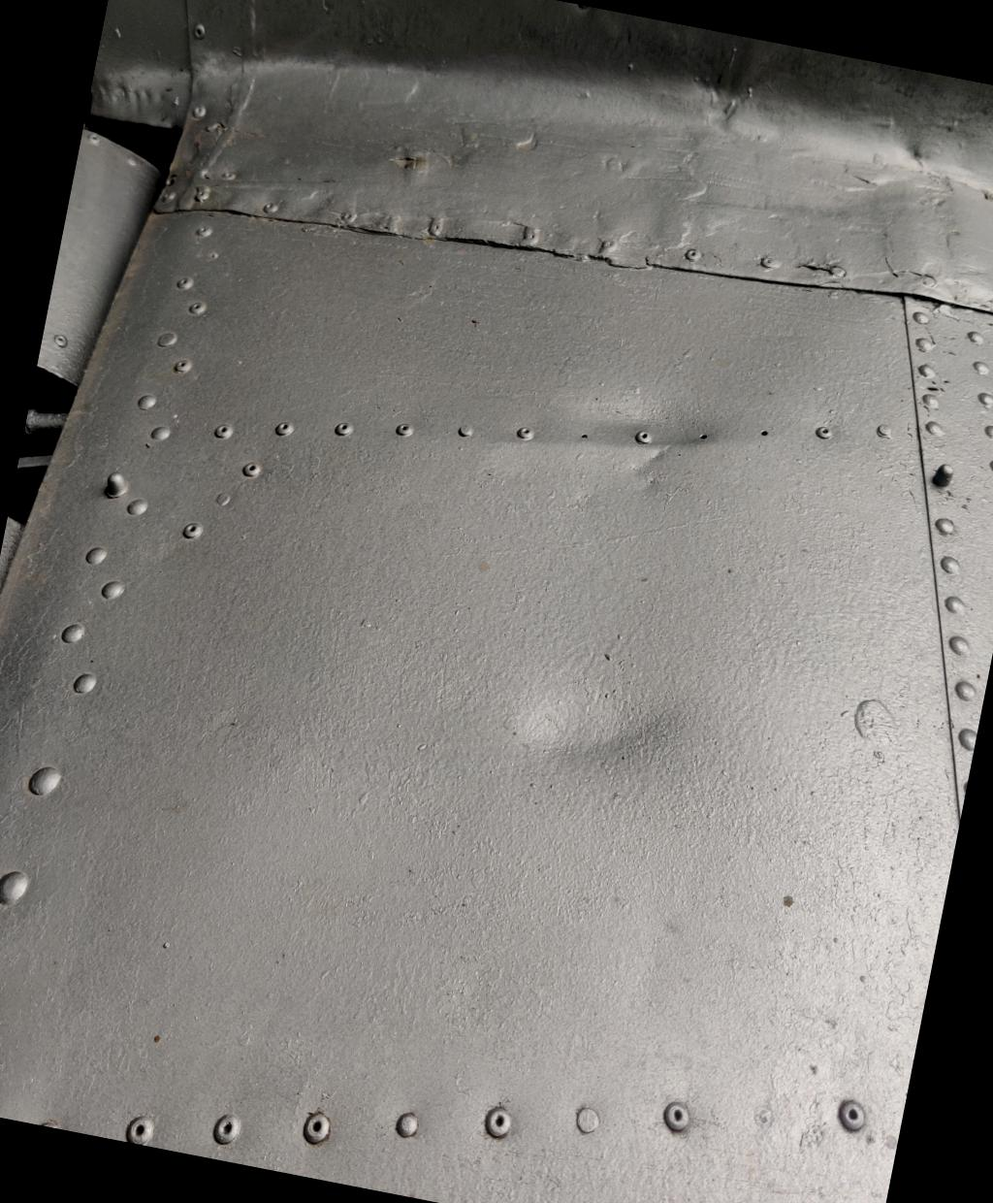dent: (469, 588, 722, 860), (507, 299, 747, 553)
